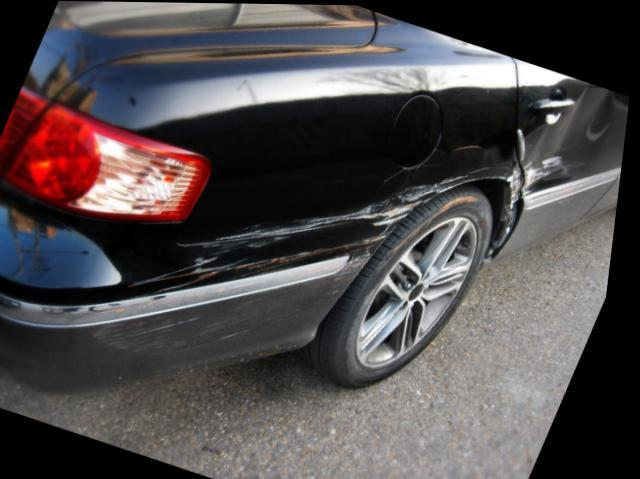dent: (529, 81, 620, 189)
scratch: (98, 174, 473, 360)
